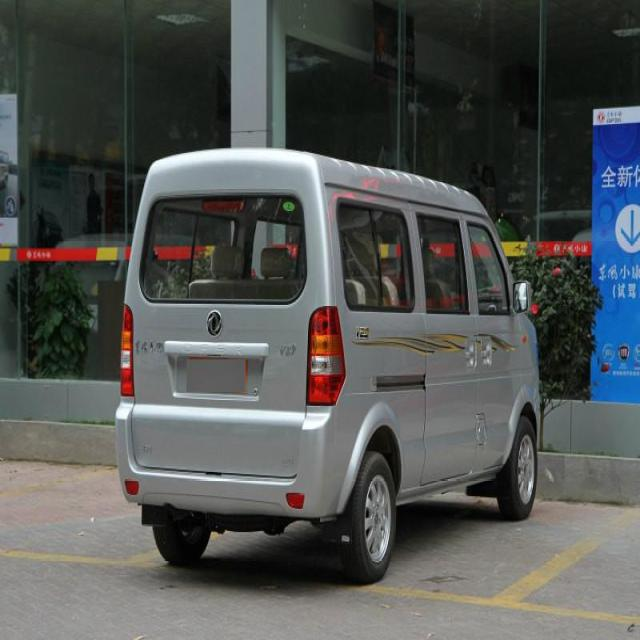back_glass: (137, 187, 311, 310)
back_left_side_light: (118, 299, 141, 418)
back_right_side_light: (304, 302, 350, 421)
door: (405, 204, 475, 481)
front_right_side_door: (456, 202, 528, 487)
front_right_side_mirror: (510, 274, 536, 324)
rear_bumper: (112, 405, 334, 524)
wheel: (332, 452, 401, 589), (146, 498, 220, 578), (497, 418, 539, 520)
